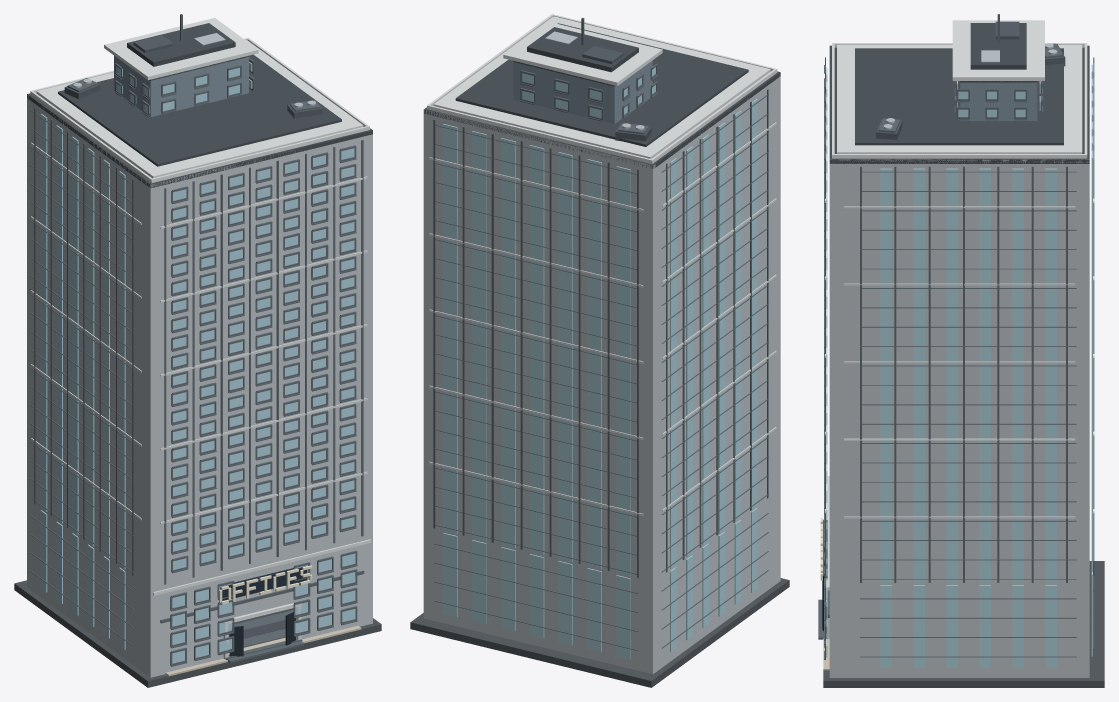
File: offices-building.glb
3 renders of one model, left to right at view 1: azimuth 30°, elevation 25°; view 2: azimuth 150°, elevation 25°; view 3: azimuth 270°, elevation 25°, orthographic. The views are drawn at different scales.
Visible parts, largest first — view 1: offices_cutaway_tower, offices_cutaway_roof, offices_exterior_detail, offices_hull_wall_front, offices_hull_wall_left, offices_cutaway_upper, offices_foundation, offices_interior; view 2: offices_cutaway_tower, offices_cutaway_roof, offices_exterior_detail, offices_hull_wall_back, offices_hull_wall_left, offices_cutaway_upper, offices_foundation; view 3: offices_cutaway_tower, offices_cutaway_roof, offices_hull_wall_right, offices_exterior_detail, offices_foundation, offices_cutaway_upper, offices_hull_wall_back.
Boxes of the visible parts, x1,y1,x2,y2 form: offices_cutaway_tower: (27,95,372,587); offices_cutaway_roof: (27,14,372,188); offices_exterior_detail: (30,510,371,666); offices_hull_wall_front: (148,535,372,676); offices_hull_wall_left: (27,499,154,677); offices_cutaway_upper: (114,55,254,117); offices_foundation: (14,580,381,687); offices_interior: (228,608,293,647); offices_cutaway_tower: (423,76,780,581); offices_cutaway_roof: (424,14,780,168); offices_exterior_detail: (434,508,768,659); offices_hull_wall_back: (423,526,655,674); offices_hull_wall_left: (654,488,780,672); offices_cutaway_upper: (513,60,658,124); offices_foundation: (410,578,789,687); offices_cutaway_tower: (824,57,1094,583); offices_cutaway_roof: (829,14,1089,163); offices_hull_wall_right: (829,584,1089,677); offices_exterior_detail: (820,476,1094,667); offices_foundation: (818,561,1104,687); offices_cutaway_upper: (954,81,1042,120); offices_hull_wall_back: (1085,584,1089,677).
Size of the model in its own units: 22.8 by 54.41 by 23.
